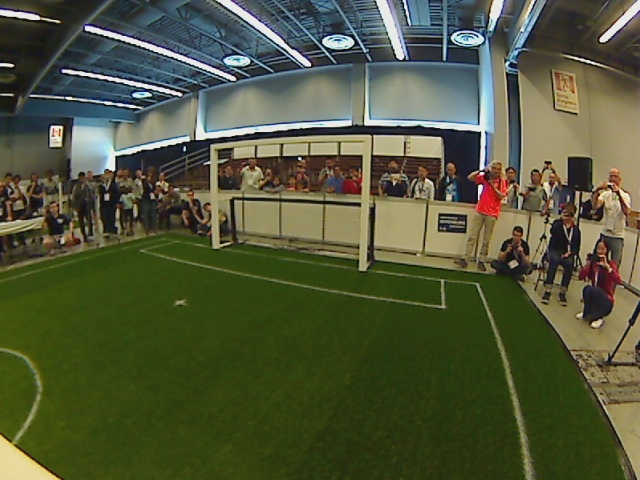ball: (174, 298, 188, 307)
